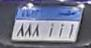8: (32, 24, 39, 38), (17, 23, 24, 37), (25, 24, 31, 37)
alif: (67, 24, 75, 39), (57, 24, 65, 38), (49, 23, 55, 37)
